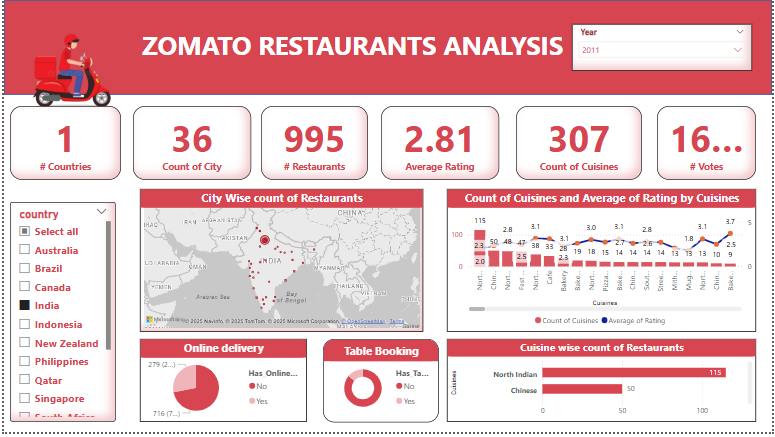

This screenshot's page, from the dashboard's own definition file:
{"tool":"powerbi","page":{"name":"Page 1","canvas":[1280,720],"ordinal":0},"visuals":[{"type":"shape","box":[0,0,1280,158],"z":0},{"type":"textbox","box":[215,40,731.7,98.3],"z":1000},{"type":"image","box":[0,0,226,238],"z":2000},{"type":"card","fields":{"Values":["Count(Restaurants.RestaurantID)"]},"box":[428.3,176.7,178.3,123.3],"z":3000},{"type":"card","fields":{"Values":["Count(Restaurants.City)"]},"box":[215,176.7,196.7,123.3],"z":4000},{"type":"card","fields":{"Values":["Count(Restaurants.CountryCode)"]},"box":[10,176.7,185,123.3],"z":5000},{"type":"card","fields":{"Values":["Avg(Restaurants.Rating)"]},"box":[628.3,176.7,196.7,123.3],"z":6000},{"type":"card","fields":{"Values":["Sum(Restaurants.Votes)"]},"box":[1088.3,176.7,165,123.3],"z":7000},{"type":"card","fields":{"Values":["Count(Restaurants.Cuisines)"]},"box":[853.3,176.7,210,123.3],"z":8000},{"type":"slicer","fields":{"Values":["countries.country name"]},"box":[10,336,176,366],"z":10000},{"type":"lineStackedColumnComboChart","fields":{"Category":["Restaurants.Cuisines"],"Y":["CountNonNull(Restaurants.Cuisines)"],"Y2":["Avg(Restaurants.Rating)"]},"box":[738.3,315,515,238.3],"z":11000},{"type":"map","title":"City Wise count of Restaurants","fields":{"Category":["Restaurants.City"],"Size":["CountNonNull(Restaurants.RestaurantID)"]},"box":[226.7,315,471.7,238.3],"z":12000},{"type":"clusteredBarChart","title":"Cuisine wise count of Restaurants","fields":{"Category":["Restaurants.Cuisines"],"Y":["CountNonNull(Restaurants.RestaurantID)"]},"box":[738.3,565,515,138.3],"z":13000},{"type":"pieChart","title":"Online delivery","fields":{"Category":["Restaurants.Has_Online_delivery"],"Y":["CountNonNull(Restaurants.RestaurantID)"]},"box":[226.7,565.6,277.8,137.8],"z":14000},{"type":"donutChart","title":"Table Booking","fields":{"Category":["Restaurants.Has_Table_booking"],"Y":["CountNonNull(Restaurants.RestaurantID)"]},"box":[532.2,565.6,193.3,138.9],"z":15000},{"type":"slicer","fields":{"Values":["Restaurants.Datekey_Opening.Variation.Date Hierarchy.Year"]},"box":[946.7,40,300,78.3],"z":16000}]}

Visuals, with their boxes in screenshot pixels (x1, y1, x2, y2), scaled from the page's 1280x720 canvas onto the 775x437 screenshot:
shape: 0:0:774:96
textbox: 130:24:573:84
image: 0:0:137:144
card - Count(Restaurants.RestaurantID): 259:107:367:182
card - Count(Restaurants.City): 130:107:249:182
card - Count(Restaurants.CountryCode): 6:107:118:182
card - Avg(Restaurants.Rating): 380:107:500:182
card - Sum(Restaurants.Votes): 659:107:759:182
card - Count(Restaurants.Cuisines): 517:107:644:182
slicer - countries.country name: 6:204:113:426
lineStackedColumnComboChart - Restaurants.Cuisines x CountNonNull(Restaurants.Cuisines): 447:191:759:336
"City Wise count of Restaurants" map: 137:191:423:336
"Cuisine wise count of Restaurants" clusteredBarChart: 447:343:759:427
"Online delivery" pieChart: 137:343:305:427
"Table Booking" donutChart: 322:343:439:428
slicer - Restaurants.Datekey_Opening.Variation.Date Hierarchy.Year: 573:24:755:72
